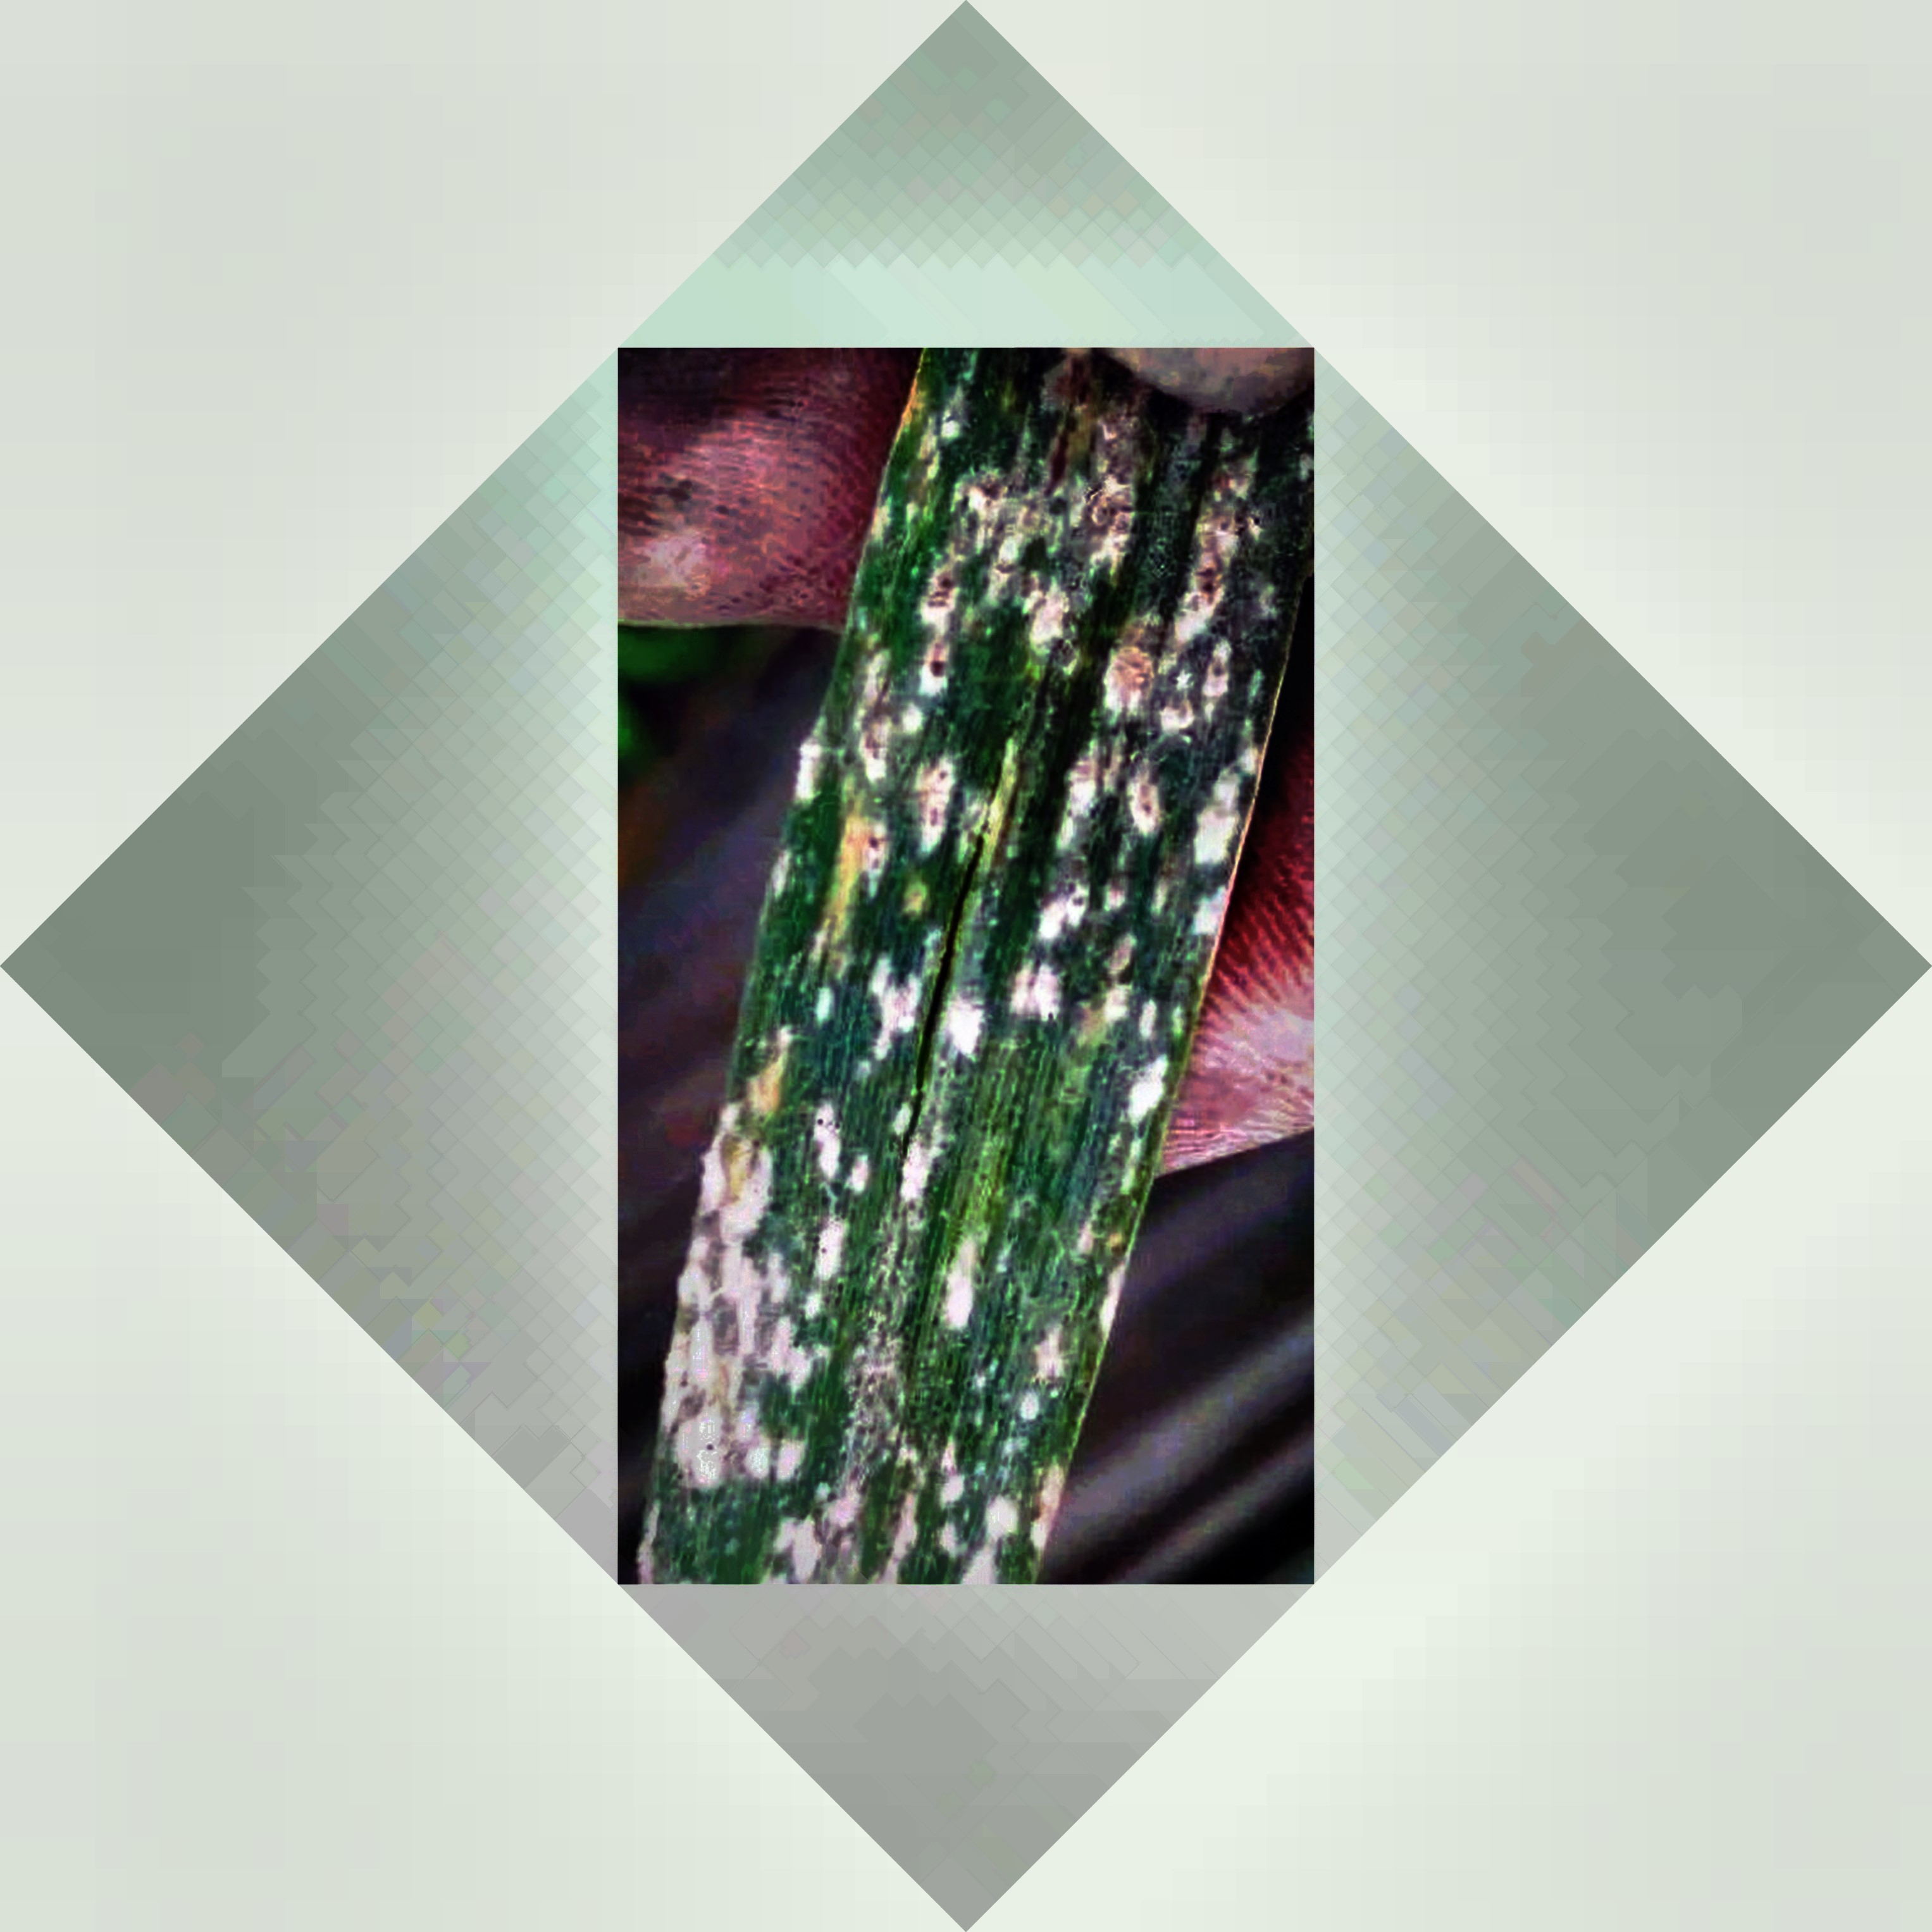Powdery Mildew: (686, 458, 1265, 1522)
